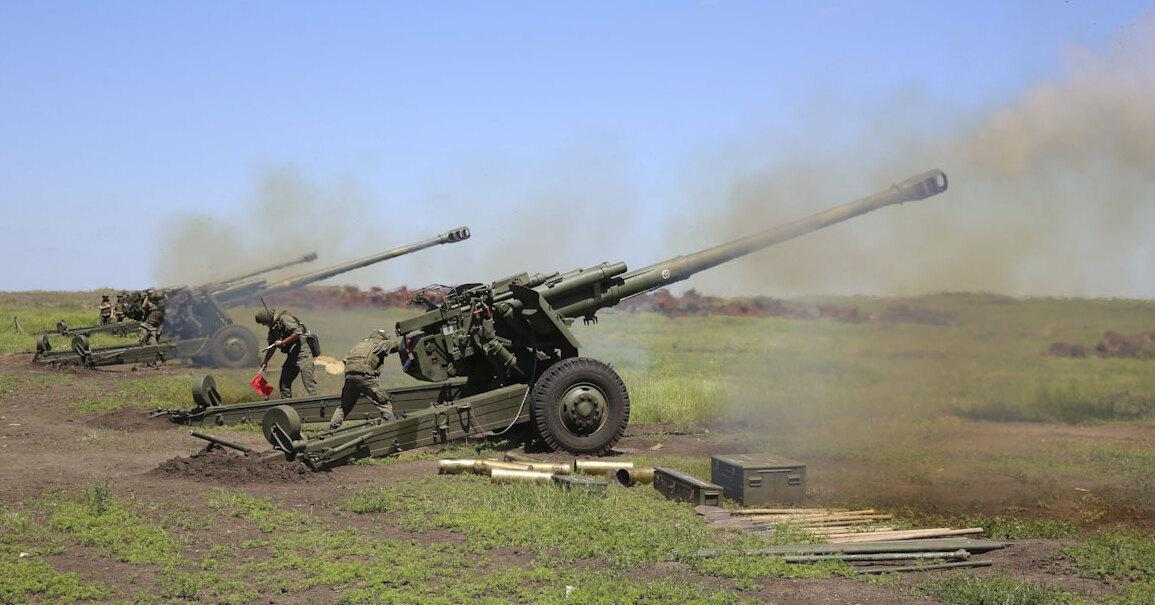person: (336, 318, 397, 436), (254, 304, 322, 404), (138, 290, 168, 346), (98, 290, 114, 324)
sau: (205, 155, 935, 526), (40, 220, 472, 386)
